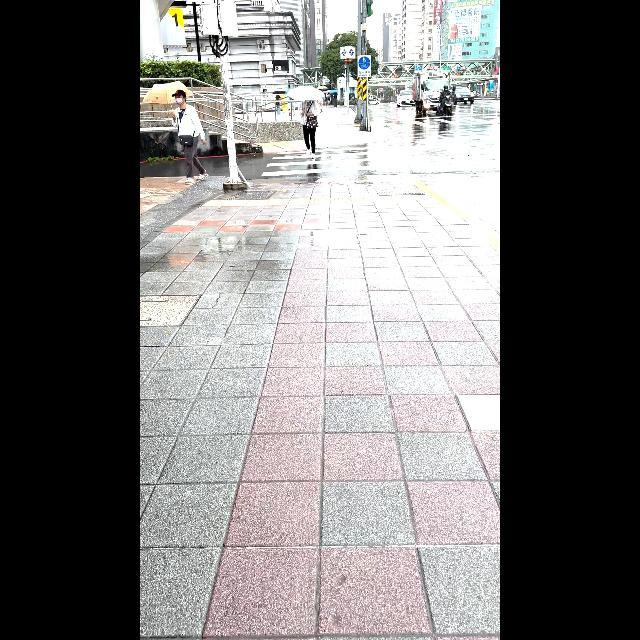sidewalk: (264, 142, 419, 178)
